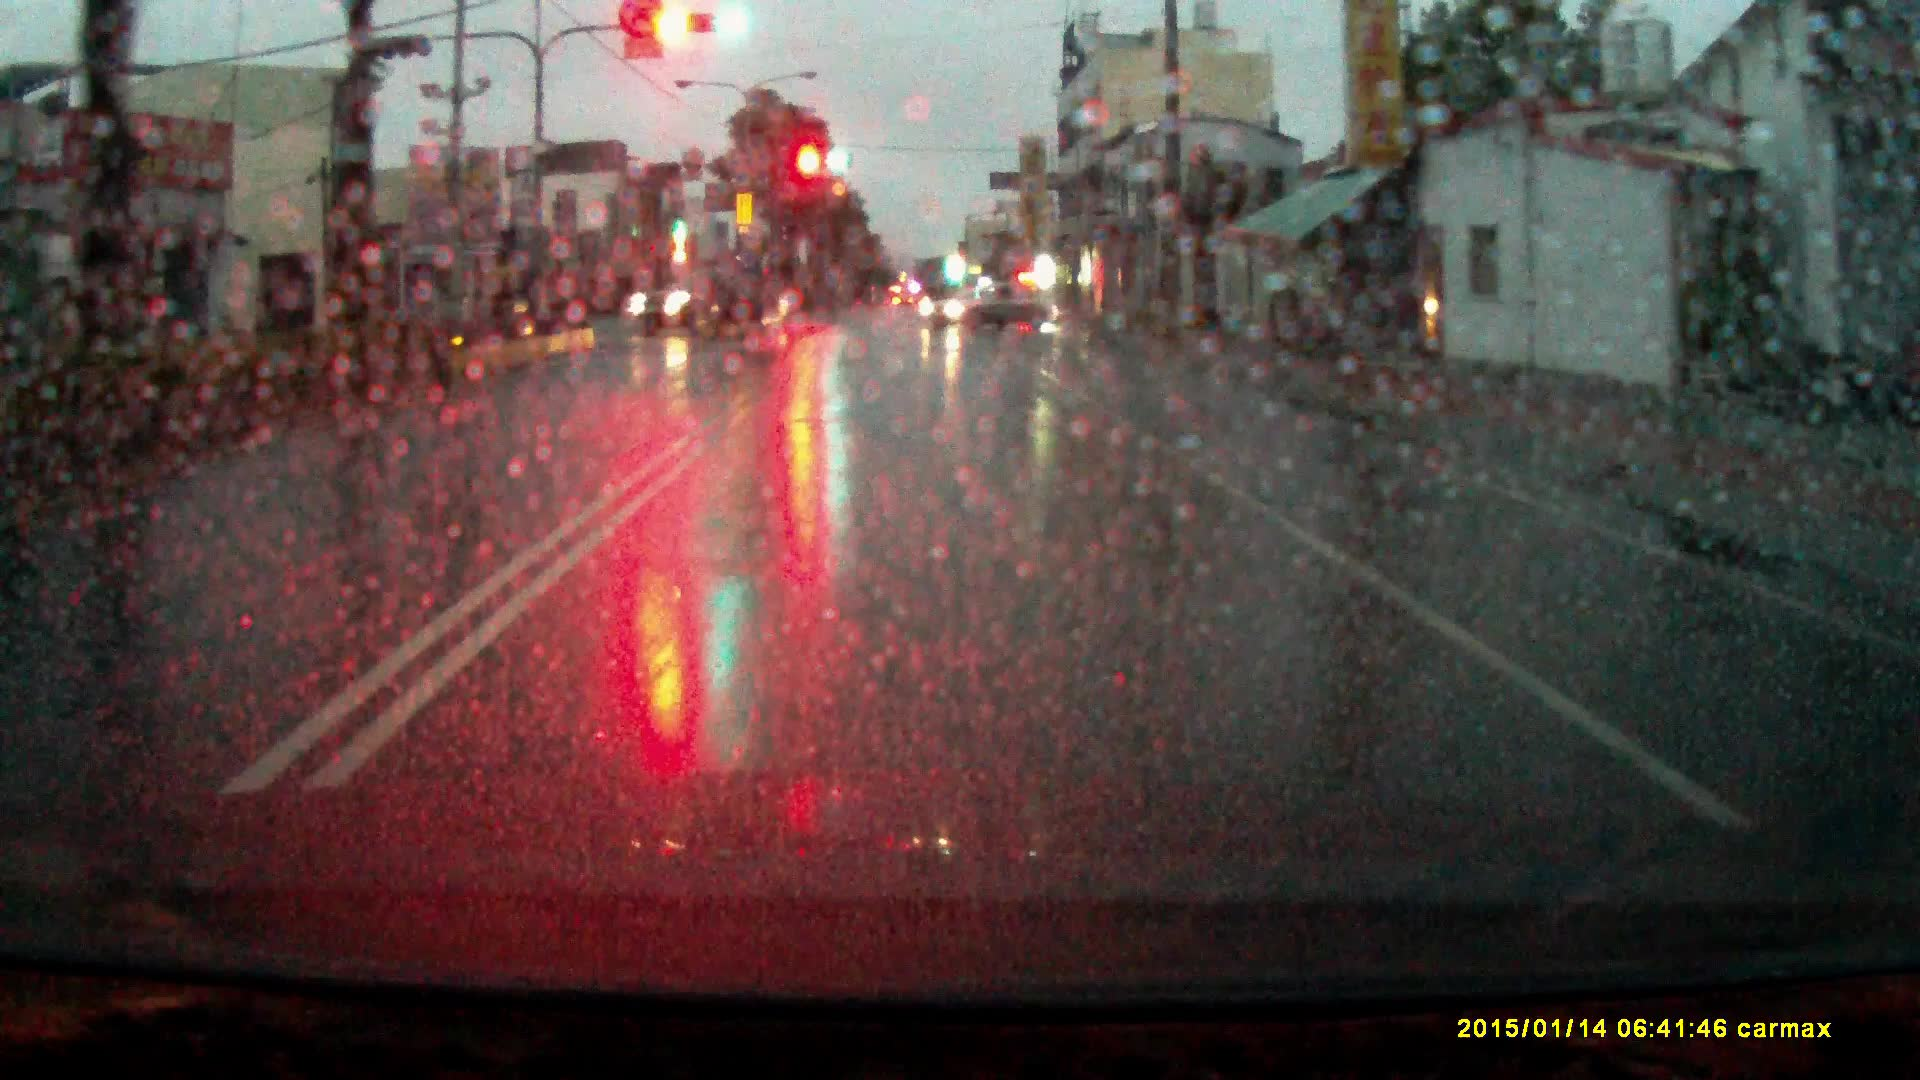vehicle: (630, 274, 793, 344), (911, 289, 1056, 339)
